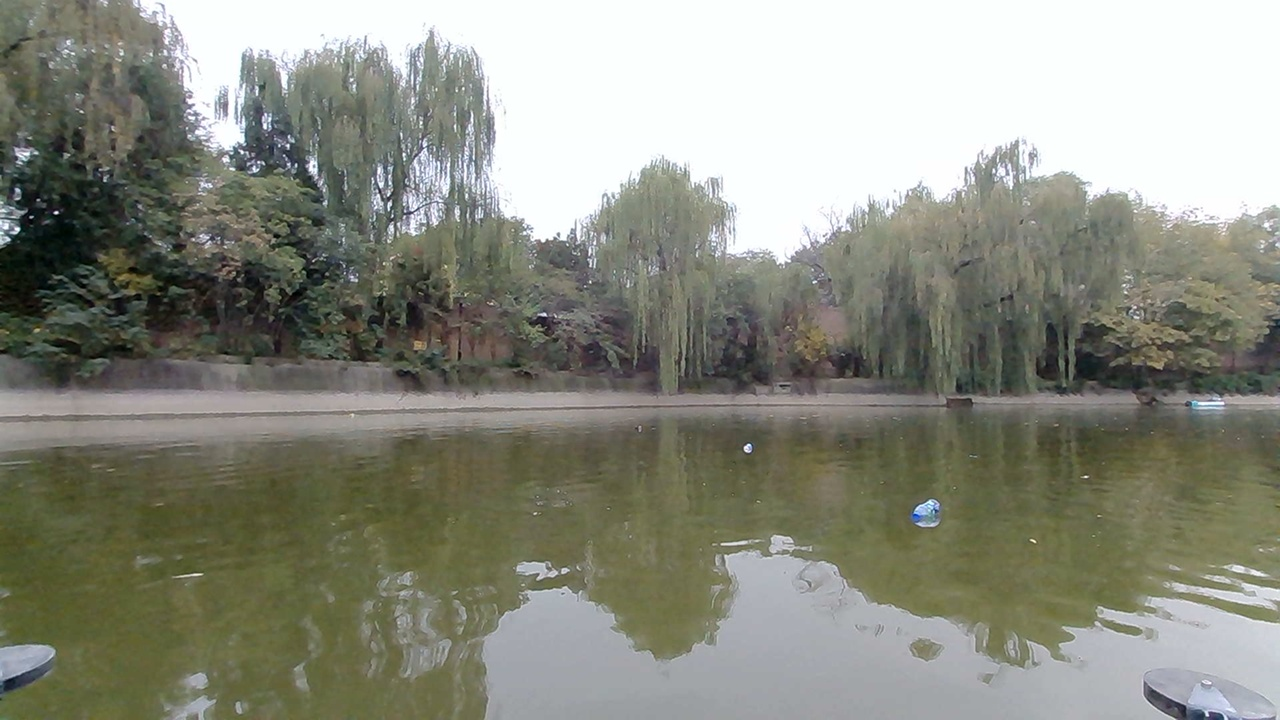bottle: (894, 482, 952, 532), (727, 425, 766, 454), (620, 415, 648, 441)
